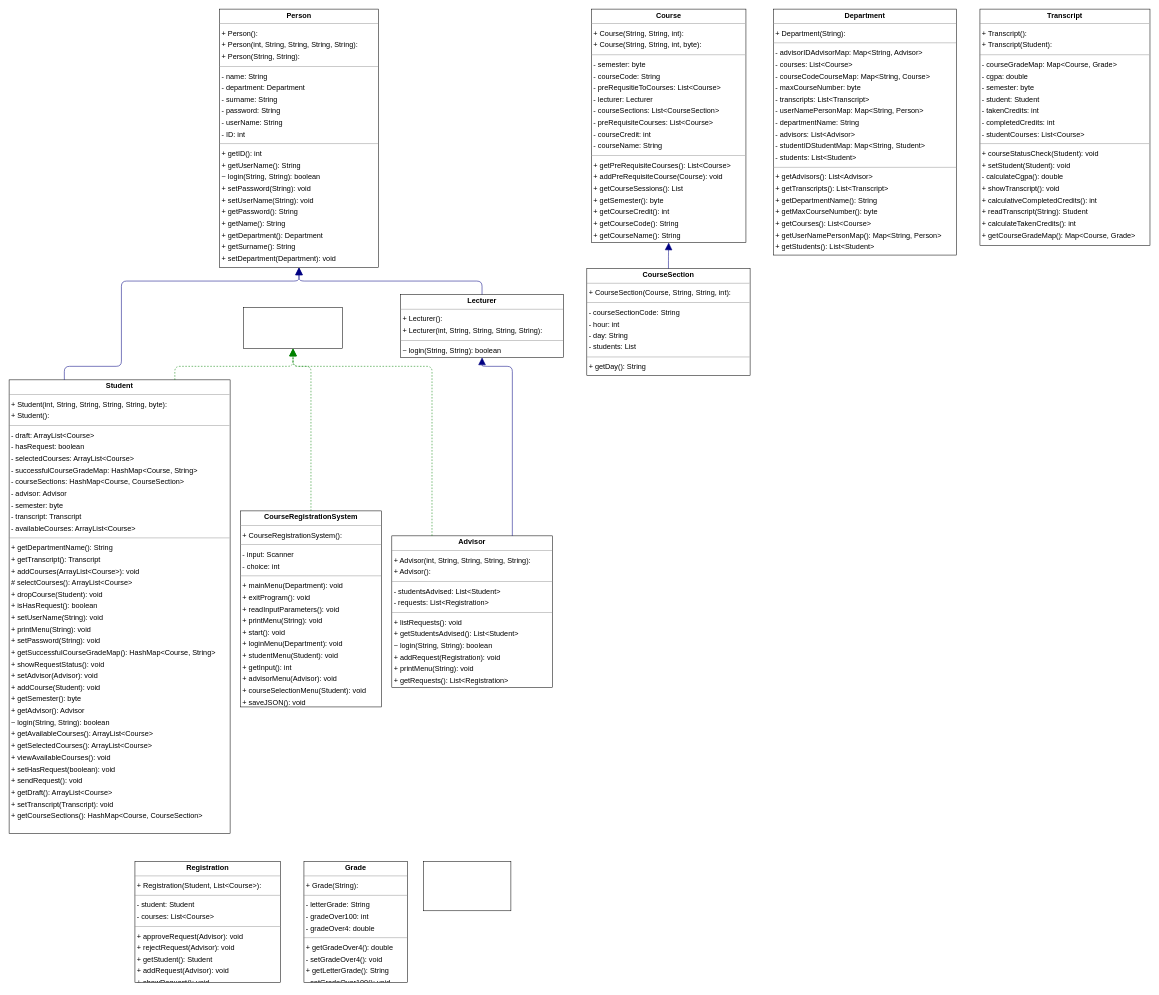
Image size: 1159x995. Some labels were removed from this diagram. Here are the shapes that lost their labels. From the top down, the box of each, then its label:
(243, 307, 342, 349): <<interface>> IDisplayMenu + printMenu(String): void
(423, 861, 511, 911): main + main(): + main(String[]): void
